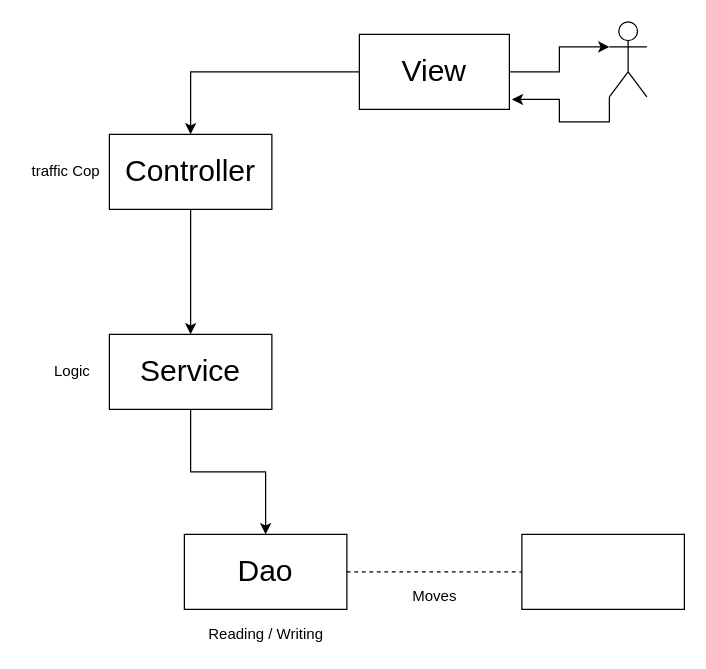
The diagram is 706 pixels wide and 669 high, and some of its shapes have lost their labels. Here are the shapes that lost their labels. From the top down, the box of each, then its label:
(608, 21, 647, 97): User
(521, 533, 684, 609): Dto
